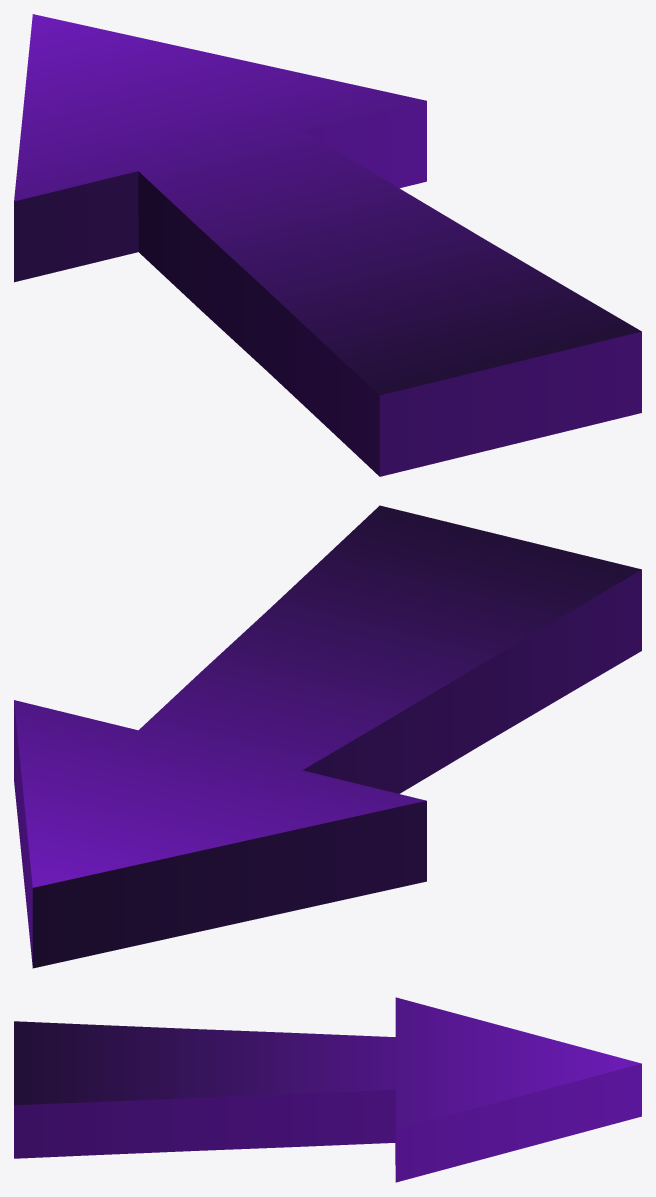
The model's file is ArrowBonus.fbx.
3 renders of one model, top to bottom at view 1: azimuth 30°, elevation 25°; view 2: azimuth 150°, elevation 25°; view 3: azimuth 270°, elevation 25°, orthographic. The views are drawn at different scales.
Parts seen in each view (by area): view 1: ArrowBonus; view 2: ArrowBonus; view 3: ArrowBonus.
Boxes of the visible parts, bbox=[...] form: ArrowBonus: bbox=[14, 14, 641, 476]; ArrowBonus: bbox=[14, 505, 641, 968]; ArrowBonus: bbox=[14, 997, 641, 1182].
Size of the model in its own units: 0.4149 by 0.0782 by 0.8321.
